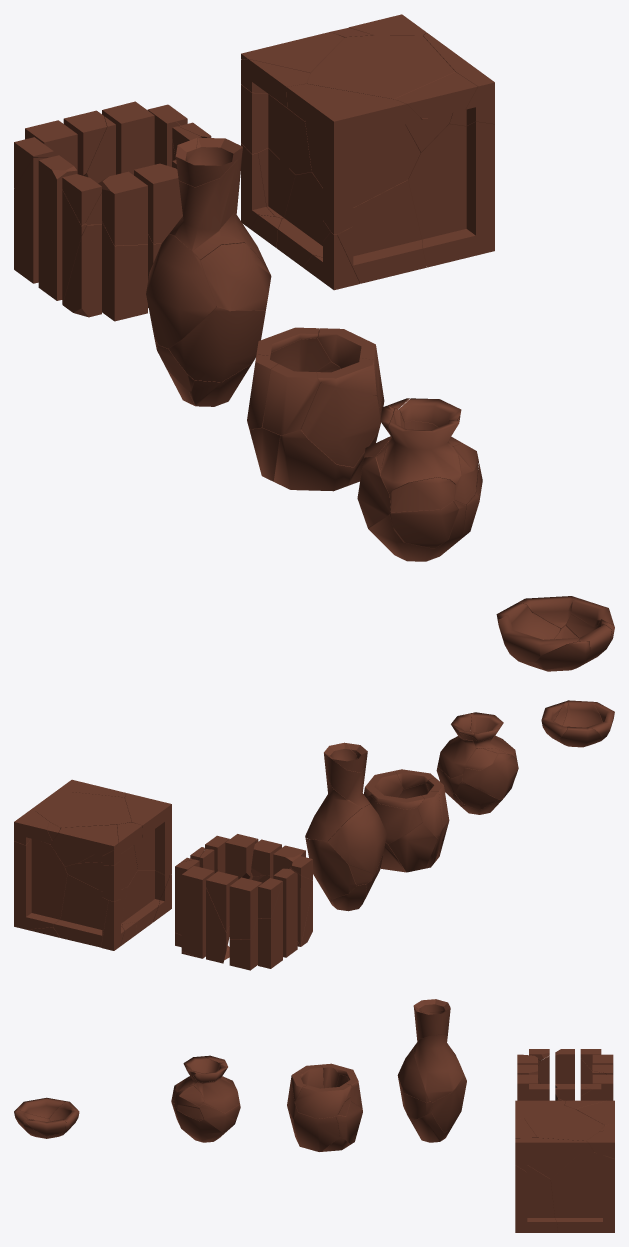
The model's file is Props_Destroyed.fbx.
3 renders of one model, top to bottom at view 1: azimuth 30°, elevation 25°; view 2: azimuth 150°, elevation 25°; view 3: azimuth 270°, elevation 25°, orthographic. The views are drawn at different scales.
Parts seen in each view (by area): view 1: Box_1x1x1.BoxBody_cell, Box_1x1x1.BoxBody_cell.031, Box_1x1x1.BoxBody_cell.029, Box_1x1x1.BoxBody_cell.041, Pot2_cell.015, Pot2_cell.003, Basket_cell, Pot2_cell.018, Pot1_cell.019, Box_1x1x1.BoxBody_cell.047, Pot2_cell.016, Box_1x1x1_cell.006 (+42 smaller); view 2: Box_1x1x1.BoxBody_cell.053, Box_1x1x1.BoxBody_cell.043, Box_1x1x1.BoxBody_cell, Box_1x1x1.BoxBody_cell.041, Pot2_cell.015, Box_1x1x1_cell.036, Box_1x1x1.BoxBody_cell.048, Box_1x1x1.BoxBody_cell.047, Box_1x1x1.BoxBody_cell.029, Pot2_cell.007, Pot2_cell.018, Box_1x1x1_cell.039 (+40 smaller); view 3: Box_1x1x1.BoxBody_cell.053, Box_1x1x1.BoxBody_cell.031, Pot2_cell.020, Box_1x1x1.BoxBody_cell.034, Box_1x1x1.BoxBody_cell.041, Basket_cell.009, Basket_cell.010, Pot1_cell.017, Pot2_cell.007, Pot1_cell, Pot2_cell.016, Pot2_cell.018 (+17 smaller).
Boxes of the visible parts, bbox=[...] form: Box_1x1x1.BoxBody_cell: bbox=[286, 84, 421, 234]; Box_1x1x1.BoxBody_cell.031: bbox=[408, 121, 494, 267]; Box_1x1x1.BoxBody_cell.029: bbox=[276, 172, 426, 283]; Box_1x1x1.BoxBody_cell.041: bbox=[307, 35, 455, 152]; Pot2_cell.015: bbox=[146, 234, 216, 348]; Pot2_cell.003: bbox=[169, 306, 265, 382]; Basket_cell: bbox=[301, 382, 380, 467]; Pot2_cell.018: bbox=[175, 138, 242, 250]; Pot1_cell.019: bbox=[380, 409, 461, 494]; Box_1x1x1.BoxBody_cell.047: bbox=[241, 84, 311, 174]; Pot2_cell.016: bbox=[200, 243, 271, 310]; Box_1x1x1_cell.006: bbox=[38, 155, 77, 300]; Box_1x1x1.BoxBody_cell.053: bbox=[14, 838, 67, 929]; Box_1x1x1.BoxBody_cell.043: bbox=[53, 874, 127, 947]; Box_1x1x1.BoxBody_cell: bbox=[124, 793, 171, 875]; Box_1x1x1.BoxBody_cell.041: bbox=[35, 792, 131, 841]; Pot2_cell.015: bbox=[328, 804, 386, 874]; Box_1x1x1_cell.036: bbox=[181, 866, 214, 958]; Box_1x1x1.BoxBody_cell.048: bbox=[51, 824, 118, 866]; Box_1x1x1.BoxBody_cell.047: bbox=[65, 845, 137, 901]; Box_1x1x1.BoxBody_cell.029: bbox=[121, 870, 169, 934]; Pot2_cell.007: bbox=[305, 838, 356, 899]; Pot2_cell.018: bbox=[324, 742, 370, 807]; Box_1x1x1_cell.039: bbox=[229, 877, 262, 939]; Box_1x1x1.BoxBody_cell.053: bbox=[550, 1152, 614, 1232]; Box_1x1x1.BoxBody_cell.031: bbox=[515, 1165, 557, 1232]; Pot2_cell.020: bbox=[413, 1034, 464, 1101]; Box_1x1x1.BoxBody_cell.034: bbox=[515, 1138, 593, 1179]; Box_1x1x1.BoxBody_cell.041: bbox=[524, 1105, 604, 1140]; Basket_cell.009: bbox=[295, 1083, 351, 1118]; Basket_cell.010: bbox=[293, 1112, 339, 1151]; Pot1_cell.017: bbox=[193, 1075, 239, 1112]; Pot2_cell.007: bbox=[431, 1075, 466, 1132]; Pot1_cell: bbox=[174, 1085, 240, 1133]; Pot2_cell.016: bbox=[398, 1048, 429, 1102]; Pot2_cell.018: bbox=[414, 1008, 450, 1041].
Bounding box in the file's own units: 267 × 146 × 604.
